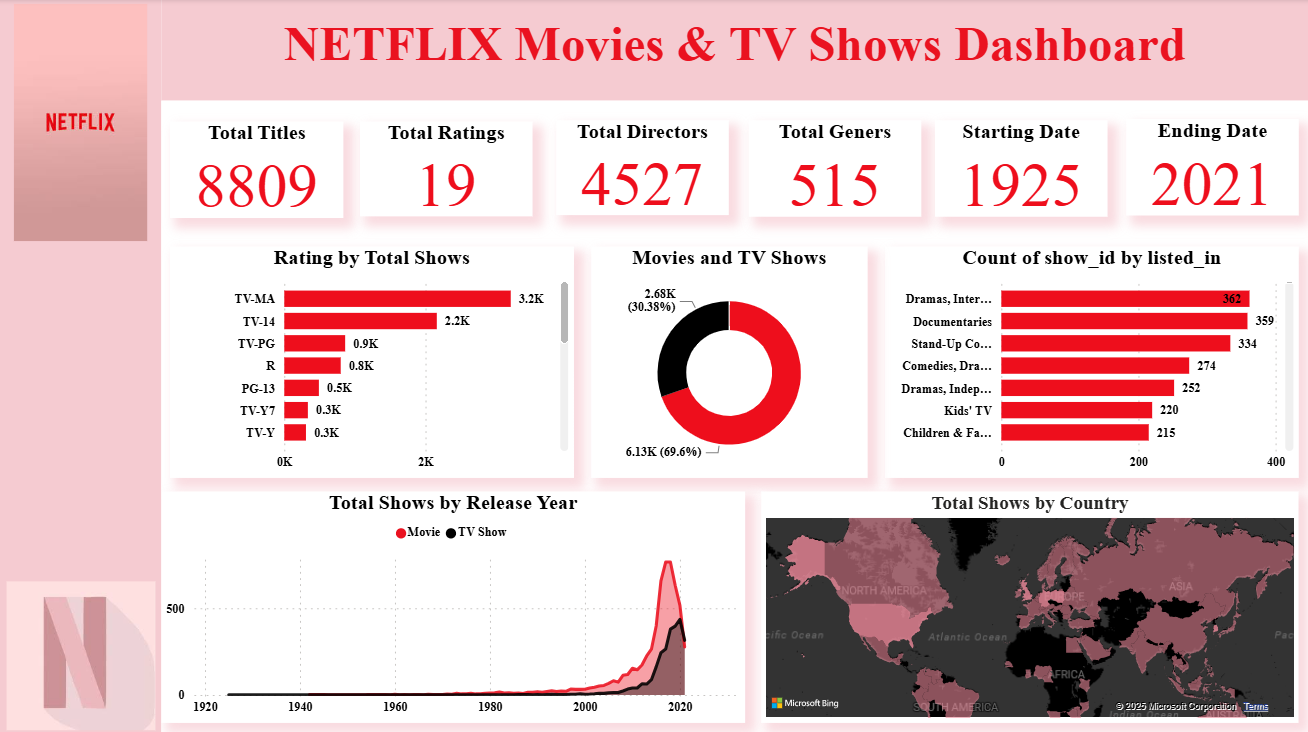

The page's visual inventory and layout, read from the dashboard file:
{"tool":"powerbi","page":{"name":"Page 1","canvas":[1280,720],"ordinal":0},"visuals":[{"type":"card","title":"Total Titles","fields":{"Values":["CountNonNull(netflix_titles.title)"]},"box":[166.3,119.8,170,94.2],"z":0},{"type":"card","title":"Total Ratings","fields":{"Values":["Count(netflix_titles.rating)"]},"box":[352.2,119.8,168.8,92.9],"z":1000},{"type":"card","title":"Total Directors","fields":{"Values":["Count(netflix_titles.director)"]},"box":[544.2,118.6,168.8,92.9],"z":2000},{"type":"card","title":"Total Geners","fields":{"Values":["Count(netflix_titles.listed_in)"]},"box":[732.5,118.6,168.8,94.2],"z":3000},{"type":"card","title":"Starting Date","fields":{"Values":["Min(netflix_titles.release_year)"]},"box":[914.7,118.6,168.8,94.2],"z":4000},{"type":"card","title":"Ending Date","fields":{"Values":["Max(netflix_titles.release_year)"]},"box":[1101.8,117.4,168.8,94.2],"z":5000},{"type":"clusteredBarChart","title":"Rating by Total Shows","fields":{"Category":["netflix_titles.rating"],"Y":["CountNonNull(netflix_titles.show_id)"]},"box":[166.3,242.1,395,226.2],"z":5001},{"type":"clusteredBarChart","fields":{"Y":["CountNonNull(netflix_titles.show_id)"],"Category":["netflix_titles.listed_in"]},"box":[865.8,242.1,404.8,226.2],"z":5002},{"type":"donutChart","title":"Movies and TV Shows","fields":{"Category":["netflix_titles.type"],"Y":["CountNonNull(netflix_titles.show_id)"]},"box":[578.4,242.1,270.2,226.2],"z":5003},{"type":"areaChart","title":"Total Shows by Release Year","fields":{"Series":["netflix_titles.type"],"Y":["CountNonNull(netflix_titles.show_id)"],"Category":["netflix_titles.release_year"]},"box":[157.7,481.8,571.1,226.2],"z":5004},{"type":"filledMap","title":"Total Shows by Country","fields":{"Category":["netflix_titles.country"]},"box":[744.7,481.8,525.8,226.2],"z":5005},{"type":"textbox","box":[0,0,157.7,720.2],"z":5006},{"type":"textbox","box":[157.7,0,1122.6,99],"z":5009},{"type":"image","box":[0,564.9,157.7,155.3],"z":5012},{"type":"image","box":[0,0,157.7,242.1],"z":5013}]}

Visuals, with their boxes in screenshot pixels (x1, y1, x2, y2), scaled from the page's 1280x720 canvas onto the 1308x732 screenshot:
"Total Titles" card: Rect(170, 122, 344, 218)
"Total Ratings" card: Rect(360, 122, 532, 216)
"Total Directors" card: Rect(556, 121, 729, 215)
"Total Geners" card: Rect(749, 121, 921, 216)
"Starting Date" card: Rect(935, 121, 1107, 216)
"Ending Date" card: Rect(1126, 119, 1298, 215)
"Rating by Total Shows" clusteredBarChart: Rect(170, 246, 574, 476)
clusteredBarChart - CountNonNull(netflix_titles.show_id) x netflix_titles.listed_in: Rect(885, 246, 1298, 476)
"Movies and TV Shows" donutChart: Rect(591, 246, 867, 476)
"Total Shows by Release Year" areaChart: Rect(161, 490, 745, 720)
"Total Shows by Country" filledMap: Rect(761, 490, 1298, 720)
textbox: Rect(0, 0, 161, 731)
textbox: Rect(161, 0, 1307, 101)
image: Rect(0, 574, 161, 731)
image: Rect(0, 0, 161, 246)
